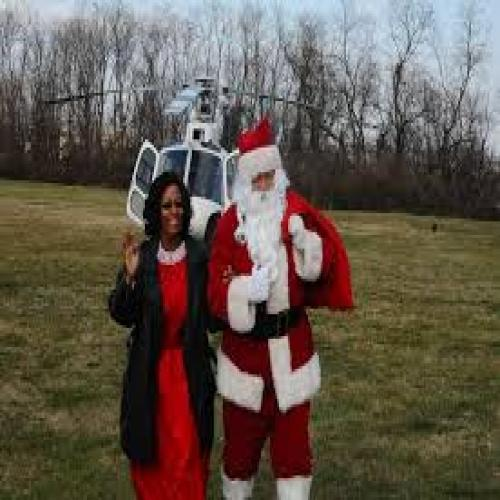Santa: (206, 112, 336, 500)
